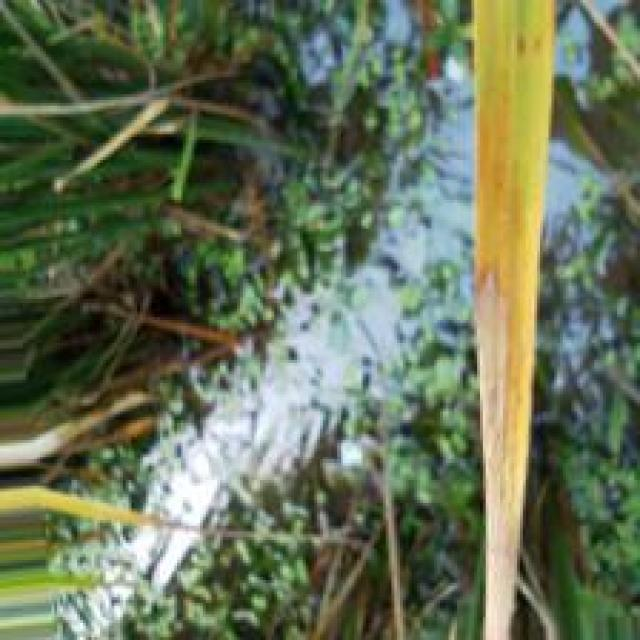Leaf_Scald: (476, 262, 522, 639)
